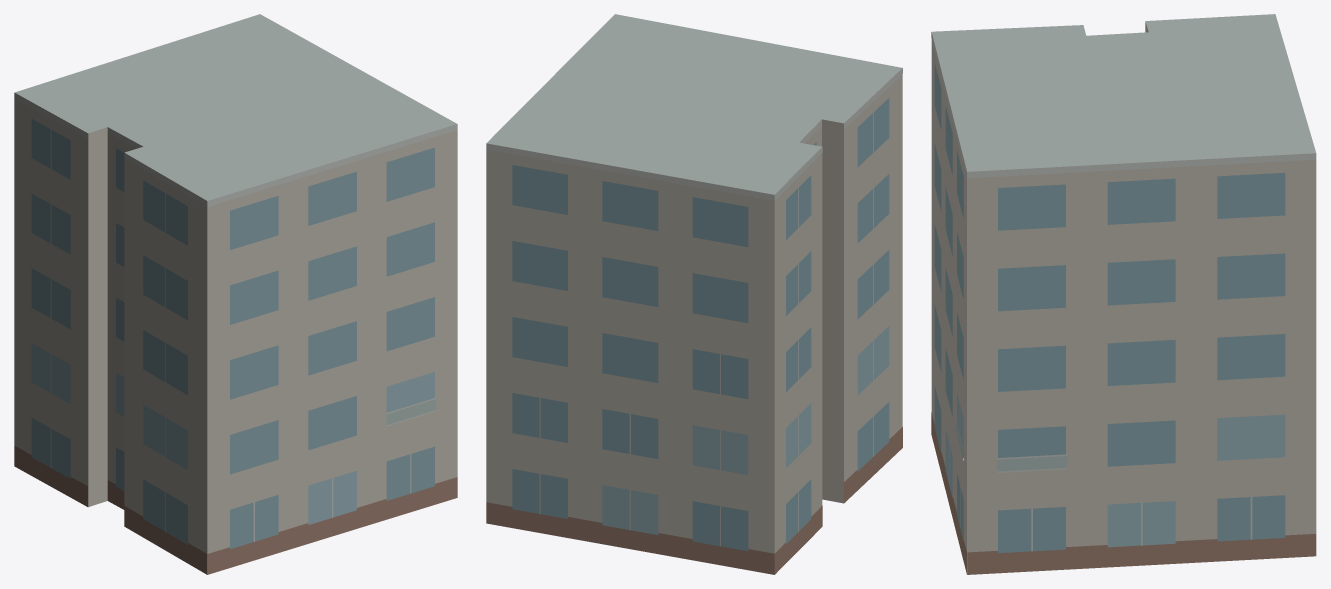
Rendered from survey-upis-32911993.glb.
3 renders of one model, left to right at view 1: azimuth 30°, elevation 25°; view 2: azimuth 150°, elevation 25°; view 3: azimuth 270°, elevation 25°, orthographic. The views are drawn at different scales.
Parts seen in each view (by area): view 1: survey-upis-32911993.tmp; view 2: survey-upis-32911993.tmp; view 3: survey-upis-32911993.tmp.
Boxes of the visible parts, <box> form: survey-upis-32911993.tmp: <box>14,14,457,574</box>; survey-upis-32911993.tmp: <box>486,14,902,574</box>; survey-upis-32911993.tmp: <box>931,14,1316,574</box>.
Size of the model in its own units: 12.82 by 15.25 by 13.21.
